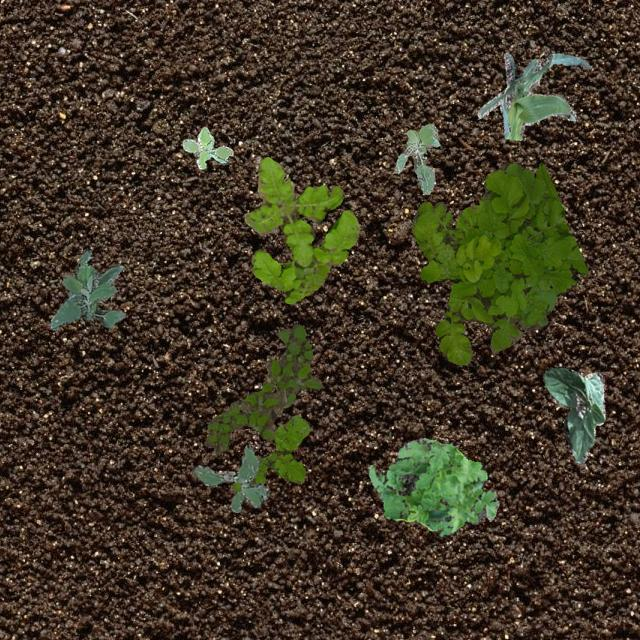crop: (477, 52, 589, 140), (542, 367, 604, 462)
weed: (410, 162, 588, 364), (244, 156, 358, 302), (204, 322, 322, 452), (368, 436, 498, 536), (230, 414, 308, 492), (49, 248, 124, 328), (192, 444, 268, 512), (394, 122, 439, 194), (182, 126, 232, 168)
